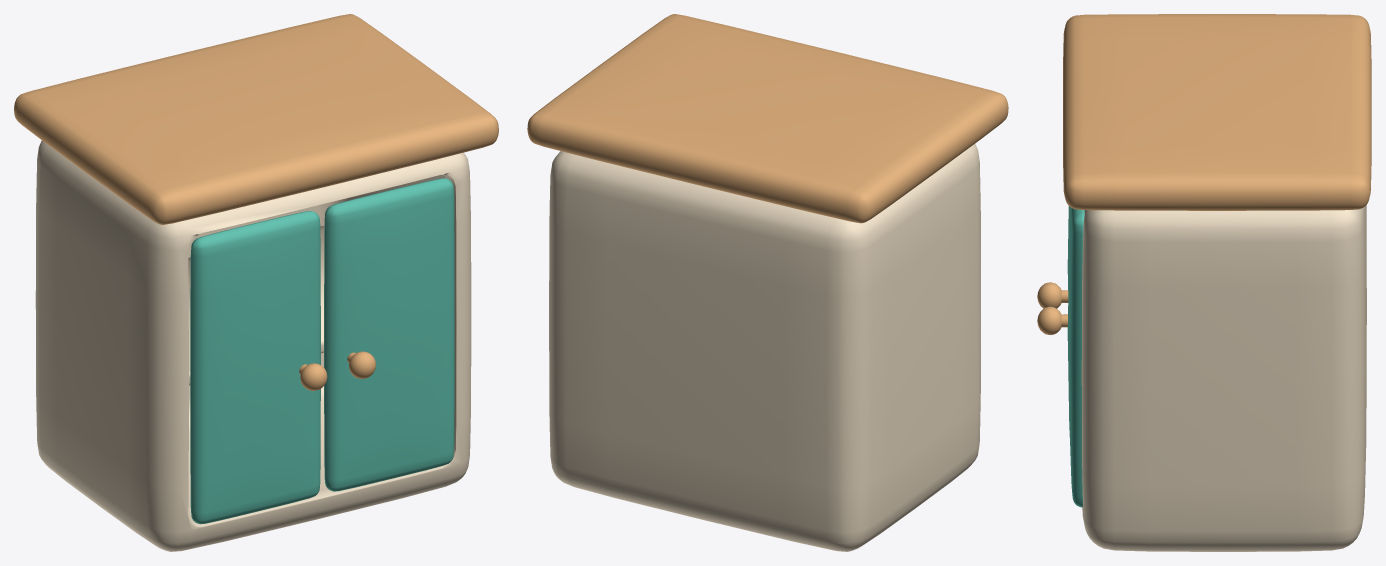
File: cabinet_a.glb
3 views of the same model, side by side, from view 1: azimuth 30°, elevation 25°; view 2: azimuth 150°, elevation 25°; view 3: azimuth 270°, elevation 25° (orthographic). The views are drawn at different scales.
Visible parts, largest first — view 1: body, door_l, door_r; view 2: body; view 3: body, door_r, door_l.
Boxes of the visible parts, bbox=[...] form: body: bbox=[14, 14, 498, 551]; door_l: bbox=[190, 211, 327, 524]; door_r: bbox=[324, 178, 454, 491]; body: bbox=[527, 14, 1008, 551]; body: bbox=[1063, 14, 1371, 551]; door_r: bbox=[1037, 207, 1084, 507]; door_l: bbox=[1037, 206, 1070, 308].
Bounding box in the file's own units: 0.86 × 0.905 × 0.6985.
